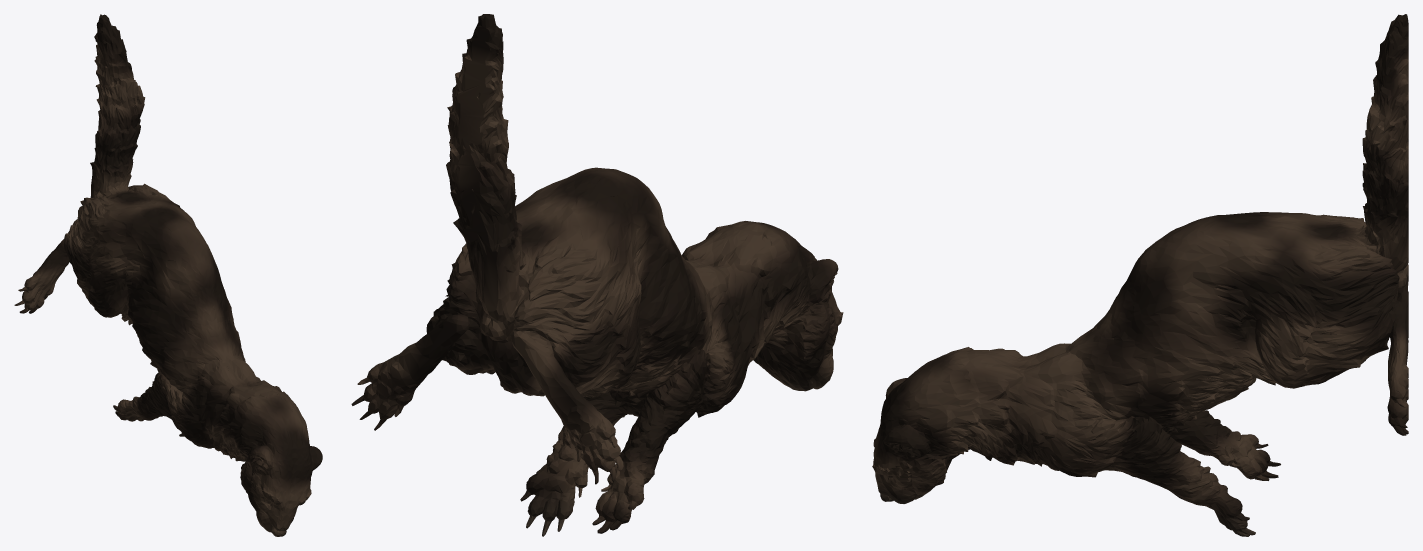
Rendered from animal_polecat_v1.glb.
3 renders of one model, left to right at view 1: azimuth 30°, elevation 25°; view 2: azimuth 150°, elevation 25°; view 3: azimuth 270°, elevation 25°, orthographic. The views are drawn at different scales.
Visible parts, largest first — view 1: european-polecat-standing-1-24; view 2: european-polecat-standing-1-24; view 3: european-polecat-standing-1-24.
Boxes of the visible parts, x1,y1,x2,y2 form: european-polecat-standing-1-24: [14, 14, 322, 536]; european-polecat-standing-1-24: [351, 14, 843, 536]; european-polecat-standing-1-24: [872, 14, 1408, 536].
Size of the model in its own units: 8.51 by 17.98 by 17.23.
